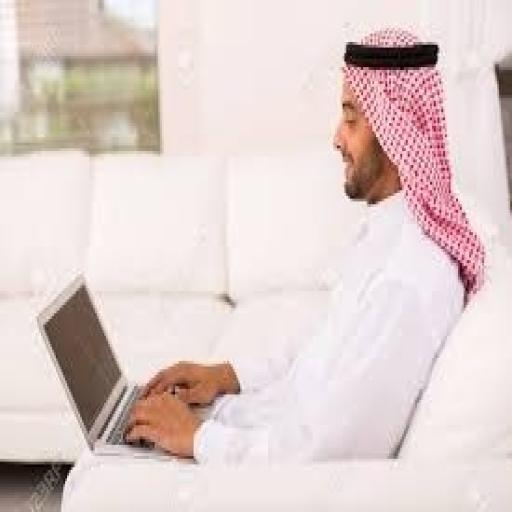using_laptop: (34, 268, 199, 464)
